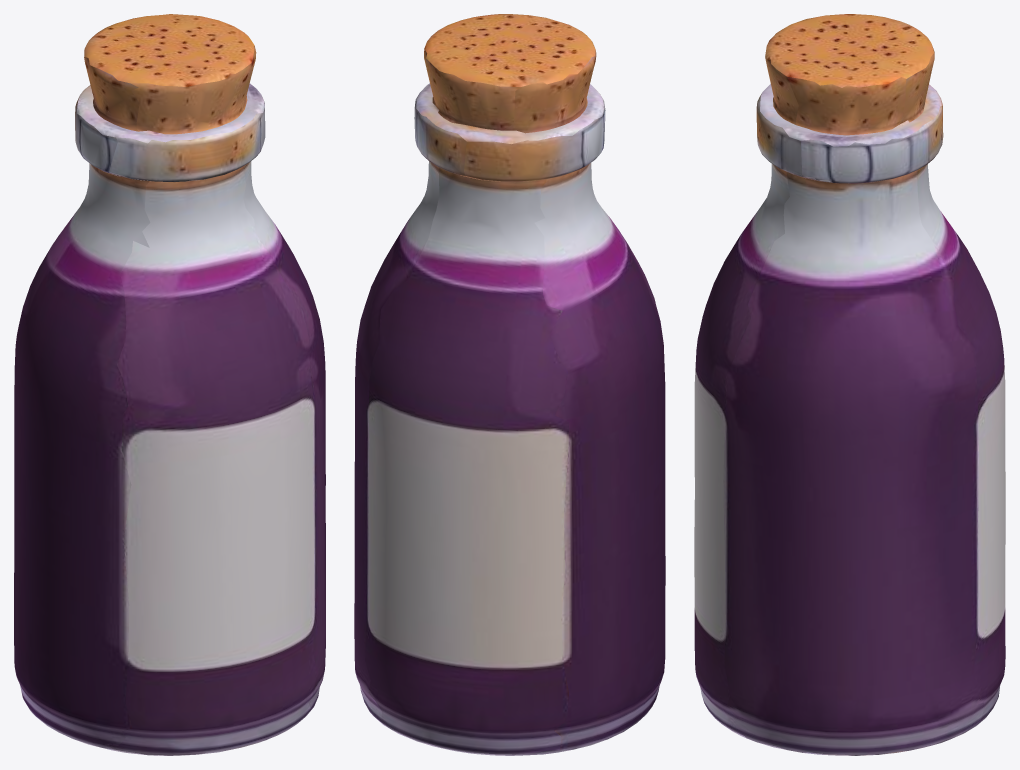
File: grape_juice.glb
The picture shows the model from 3 angles, left to right: view 1: azimuth 30°, elevation 25°; view 2: azimuth 150°, elevation 25°; view 3: azimuth 270°, elevation 25°; orthographic projection.
Visible parts, largest first — view 1: item_grape_juice; view 2: item_grape_juice; view 3: item_grape_juice.
Boxes of the visible parts, <box> form: item_grape_juice: <box>14,14,325,755</box>; item_grape_juice: <box>354,14,665,755</box>; item_grape_juice: <box>694,14,1005,755</box>.
Size of the model in its own units: 0.4326 by 1 by 0.4344.
1 material, 1 textured.
